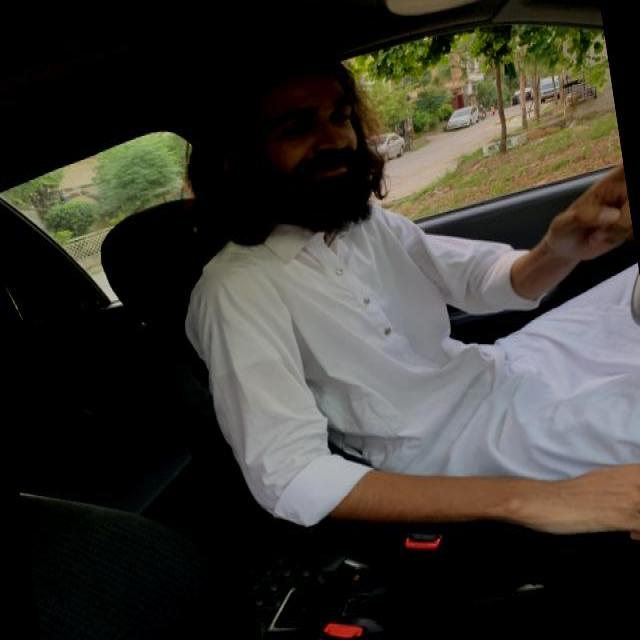no-seatbelt: (178, 179, 478, 484)
